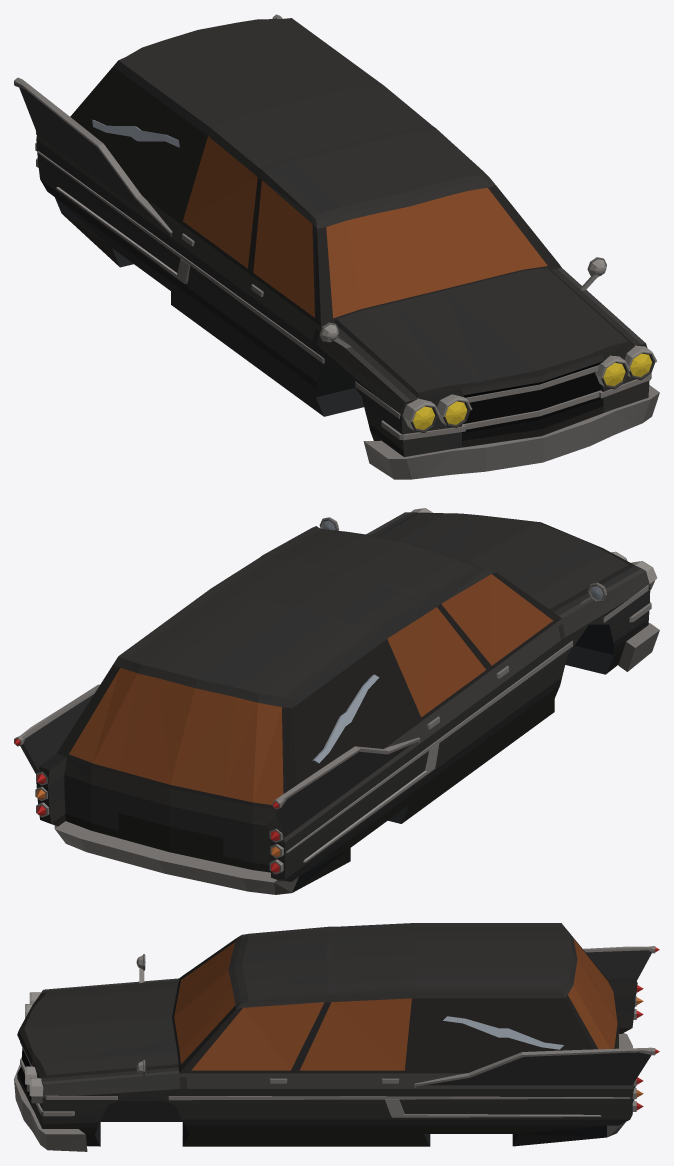
Rendered from Cadillac.glb.
3 renders of one model, top to bottom at view 1: azimuth 30°, elevation 25°; view 2: azimuth 150°, elevation 25°; view 3: azimuth 270°, elevation 25°, orthographic. The views are drawn at different scales.
Visible parts, largest first — view 1: Body; view 2: Body; view 3: Body.
Part boxes in pixels (x1,y1,x2,y2): Body: (14,14,659,479); Body: (14,508,659,894); Body: (14,923,659,1151).
Size of the model in its own units: 2.08 by 1.26 by 5.02.
1 material, 1 textured.
